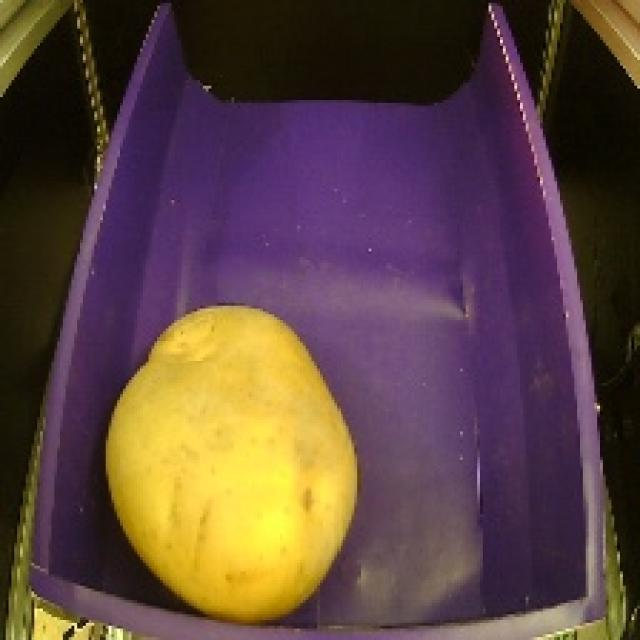full_potato: (87, 292, 371, 628)
